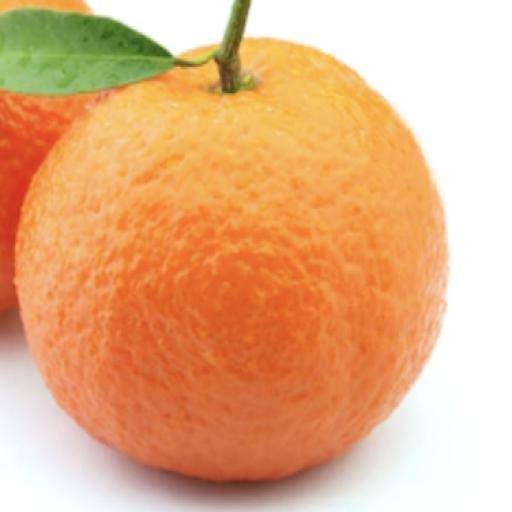orange: (17, 39, 447, 479), (0, 90, 91, 310)
